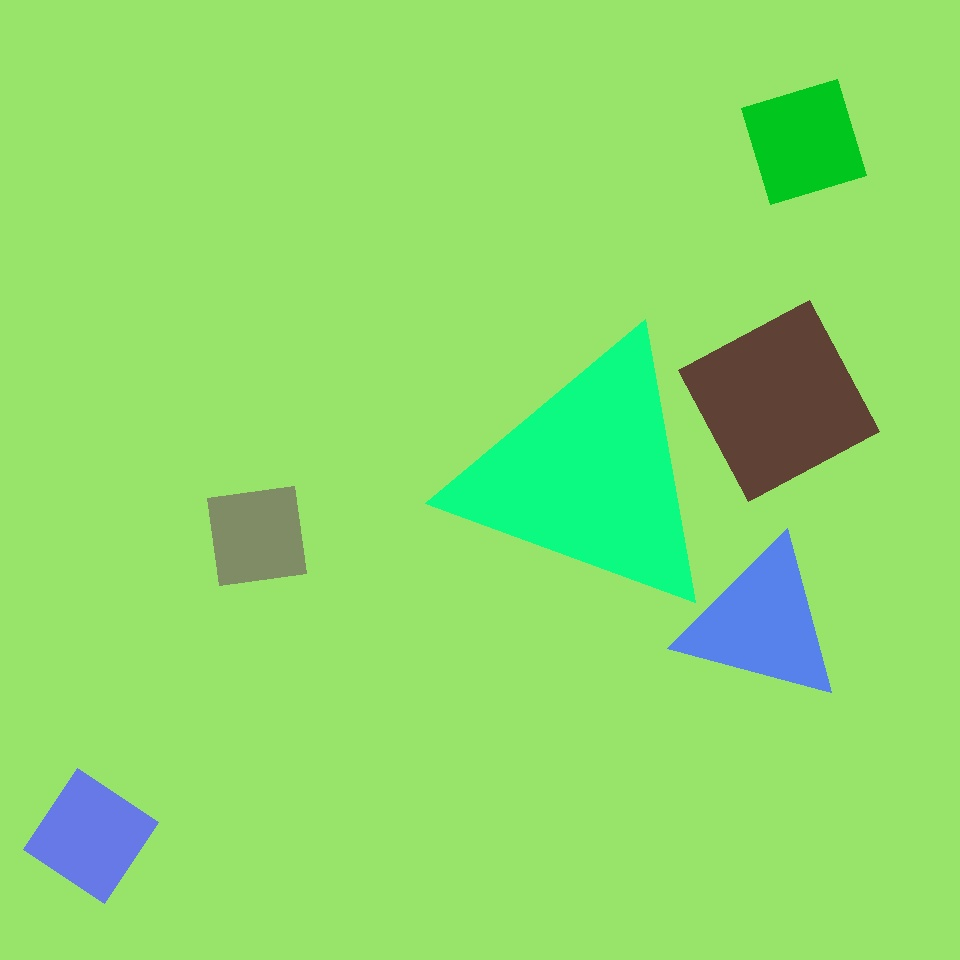circle: (454, 334, 724, 616), (680, 541, 844, 705)
square: (678, 300, 880, 502), (23, 768, 158, 904), (742, 80, 866, 204), (207, 487, 306, 586)
